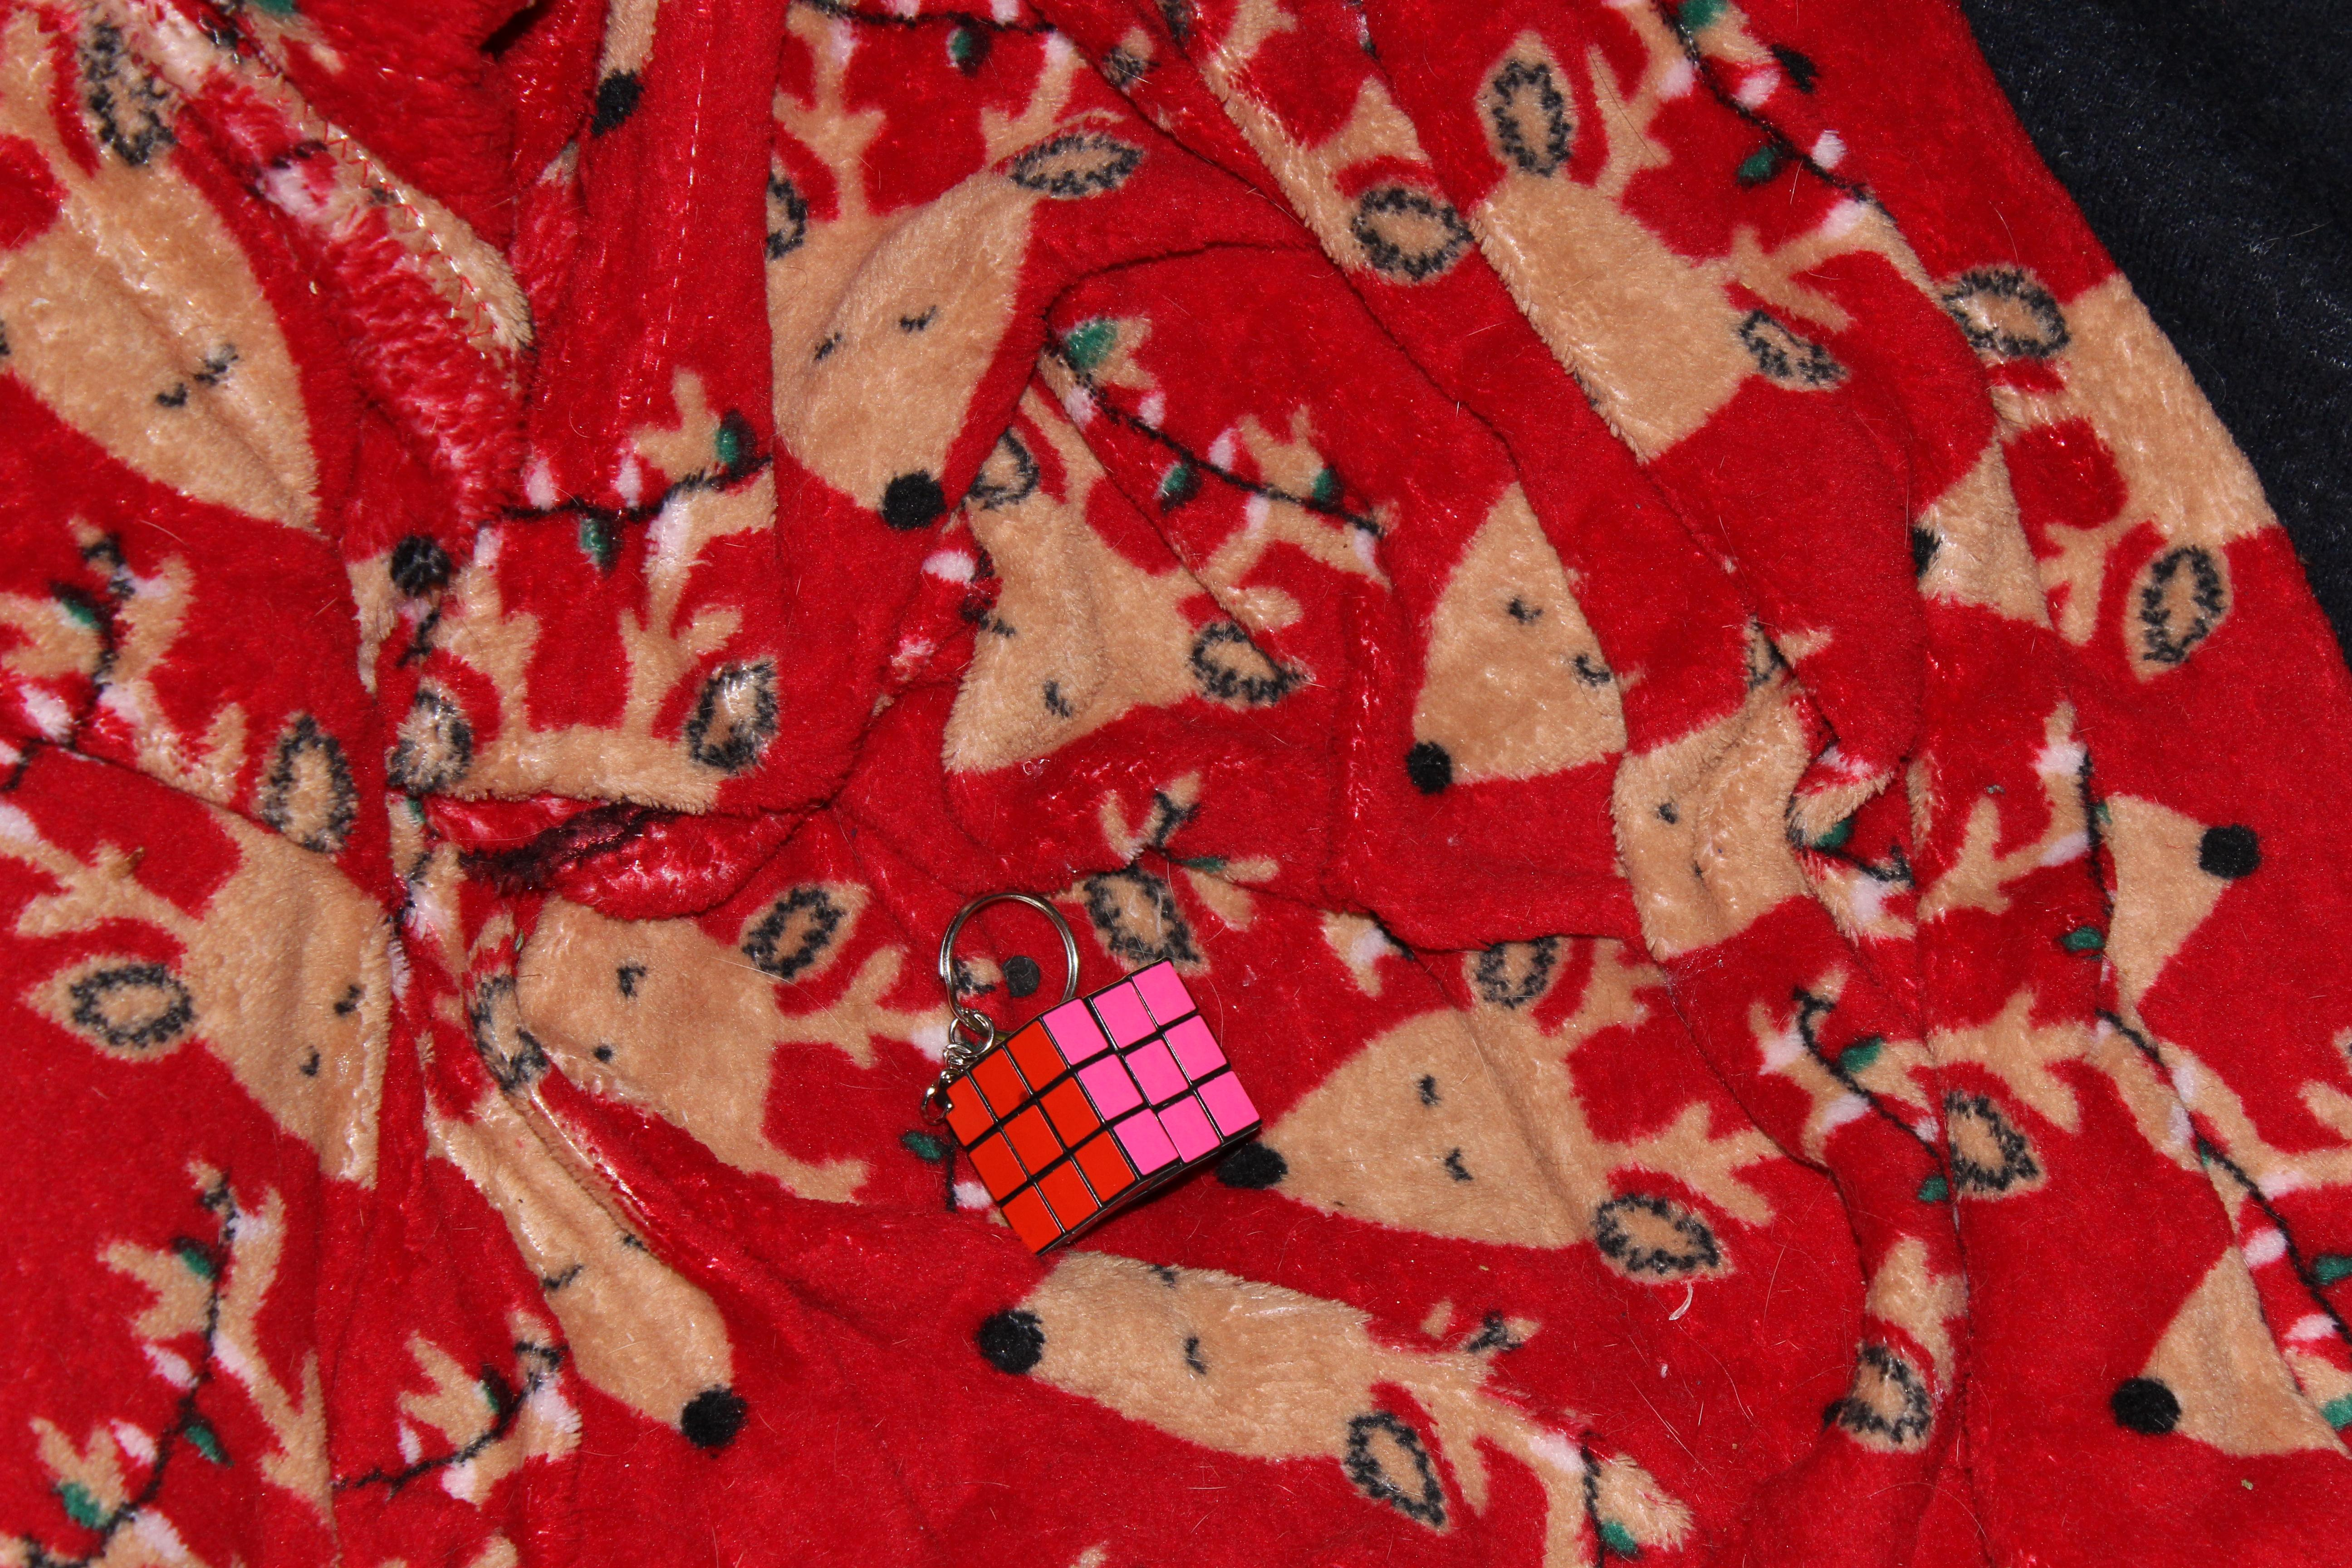rubiksCube: (920, 948, 1279, 1272)
